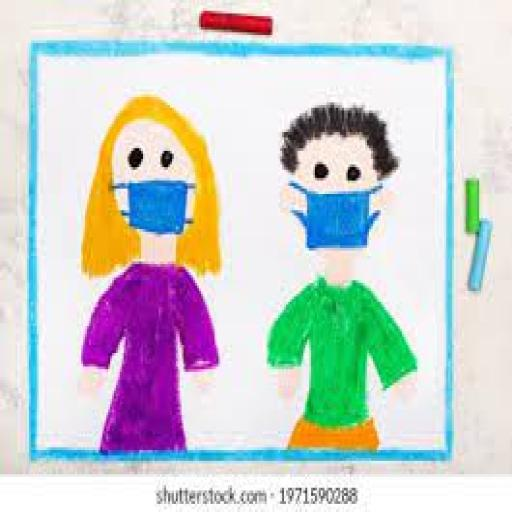person: (74, 88, 227, 460), (264, 100, 417, 457)
